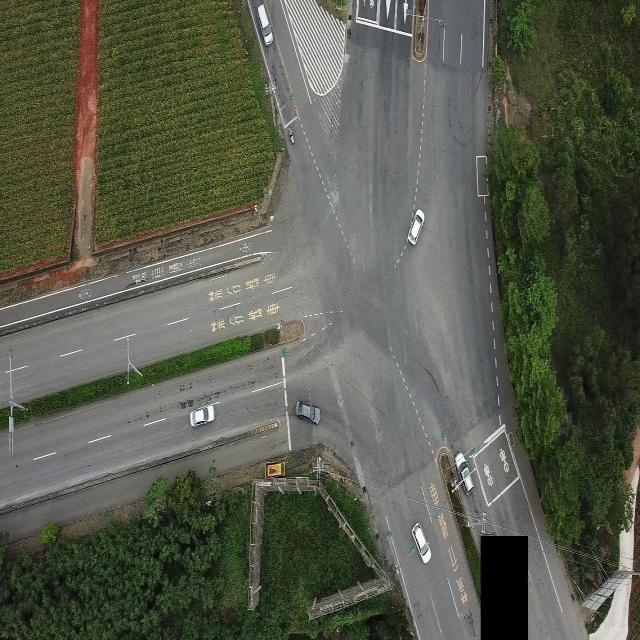car: (254, 2, 274, 48), (453, 451, 473, 494), (413, 522, 431, 565), (407, 210, 424, 246), (295, 400, 320, 424), (190, 404, 213, 427), (265, 460, 286, 477)
